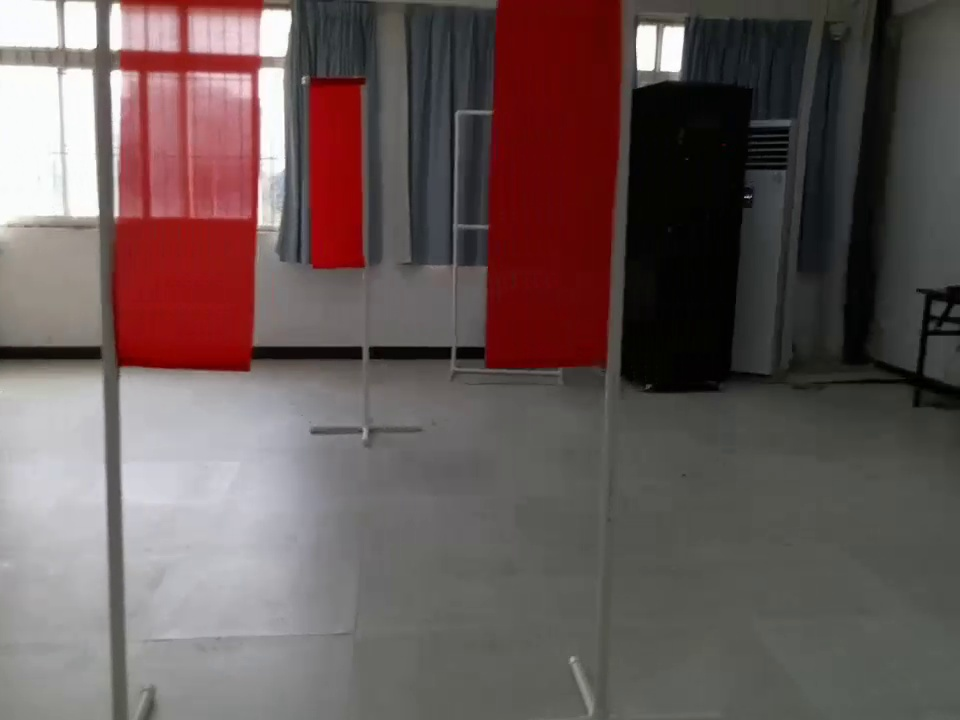qi: (98, 1, 260, 388), (478, 1, 634, 372), (297, 61, 372, 271)
